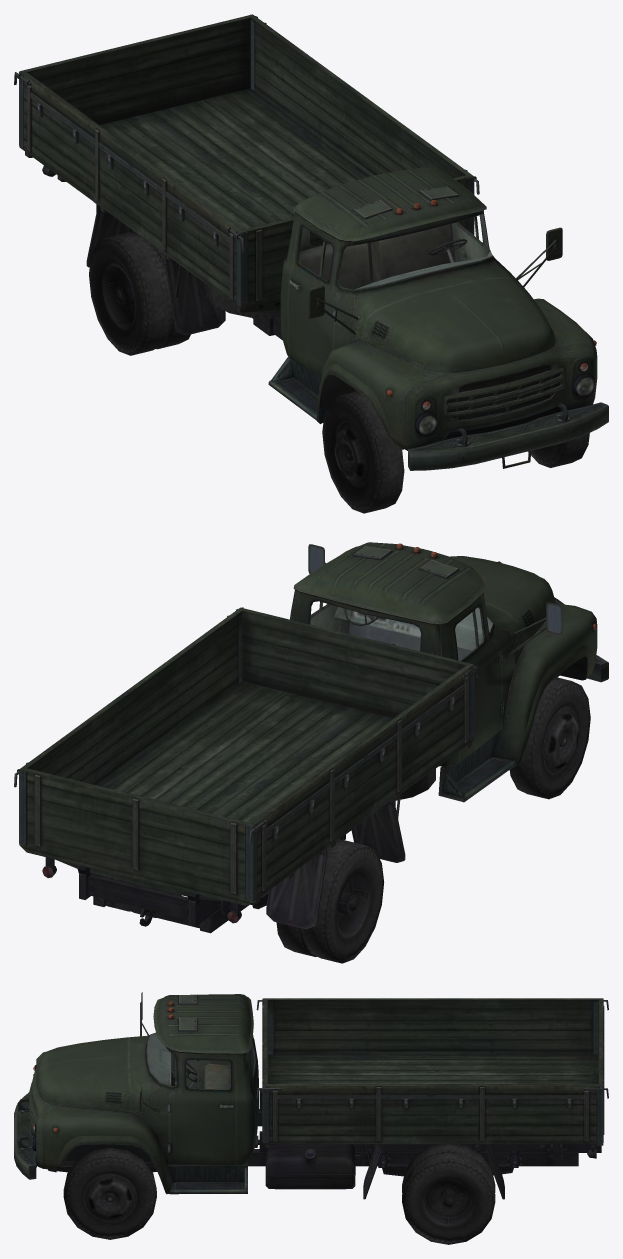
The model's file is zil.DAE.
3 renders of one model, top to bottom at view 1: azimuth 30°, elevation 25°; view 2: azimuth 150°, elevation 25°; view 3: azimuth 270°, elevation 25°, orthographic. The views are drawn at different scales.
Visible parts, largest first — view 1: Box002, bw001, fw001; view 2: Box002, bw001, fw001; view 3: Box002, bw001, fw001.
Boxes of the visible parts, x1,y1,x2,y2 form: Box002: [14, 14, 608, 470]; bw001: [89, 231, 190, 355]; fw001: [322, 391, 589, 513]; Box002: [14, 542, 608, 933]; bw001: [106, 839, 384, 963]; fw001: [509, 677, 590, 799]; Box002: [14, 992, 608, 1199]; bw001: [402, 1144, 495, 1244]; fw001: [63, 1147, 156, 1239].
Size of the model in its own units: 122 by 115 by 320.
